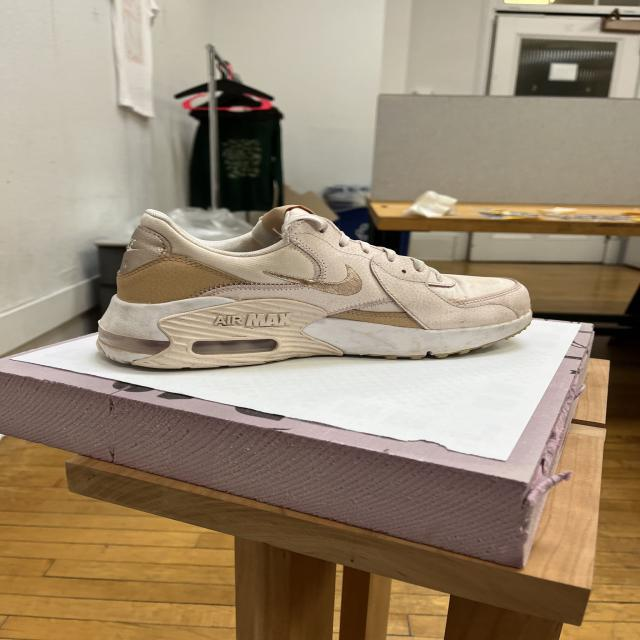shoe: (94, 201, 534, 374)
